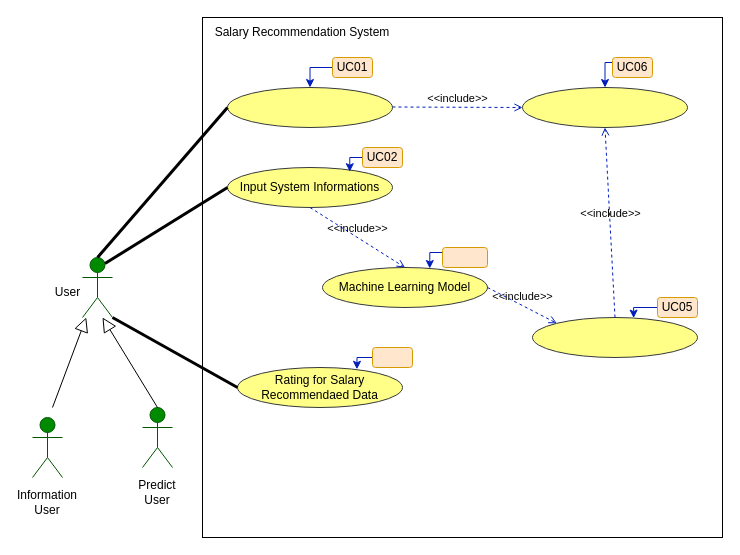
Image size: 740x555. Some labels were removed from this diagram. Each missing label, with the box of its shape:
Input Salary Information: (226, 86, 392, 128)
Recommend Salary Data: (532, 316, 698, 358)
Saving to Database: (522, 86, 688, 128)
UC03: (372, 346, 412, 368)
UC04: (442, 246, 488, 268)
